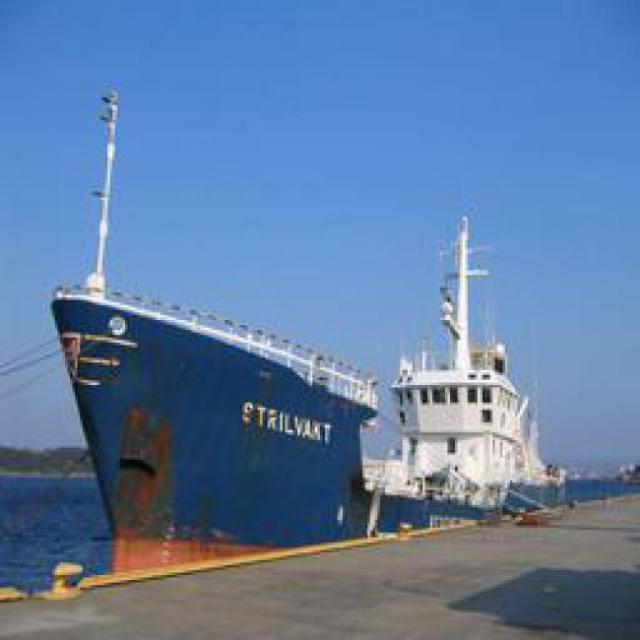boat: (12, 229, 580, 509)
